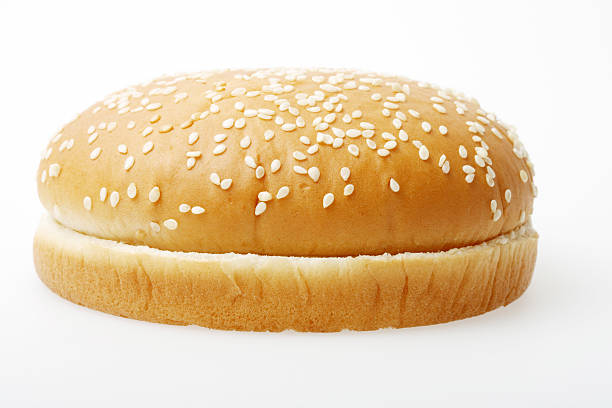hamburger_buns: (27, 74, 561, 334)
